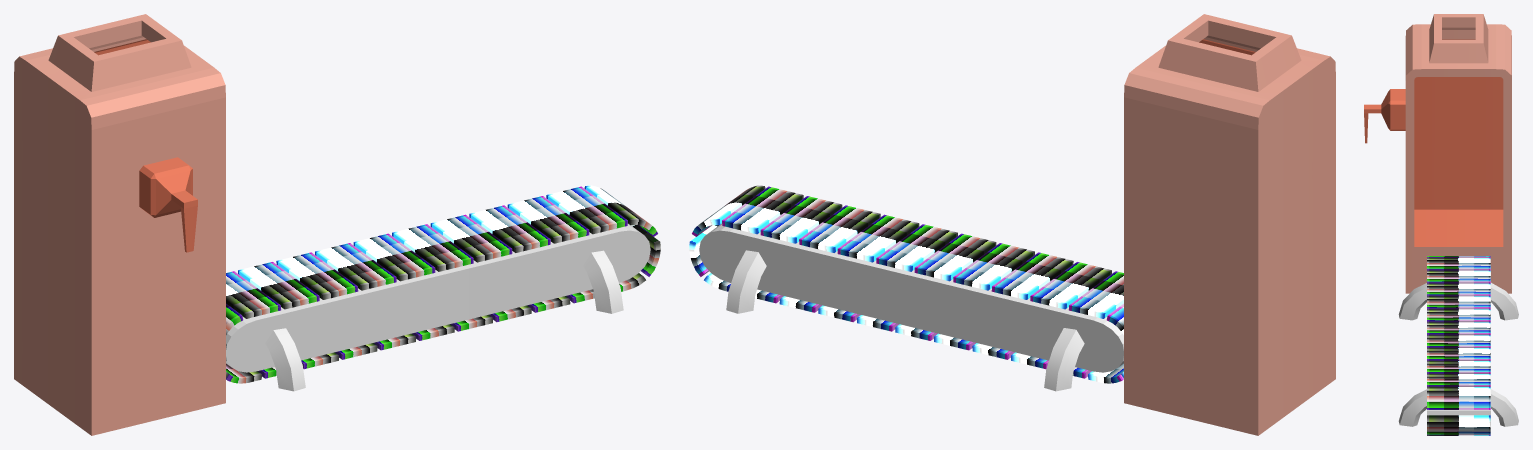
File: CheeseMachine.fbx
The picture shows the model from 3 angles, left to right: view 1: azimuth 30°, elevation 25°; view 2: azimuth 150°, elevation 25°; view 3: azimuth 270°, elevation 25°; orthographic projection. The views are drawn at different scales.
Visible parts, largest first — view 1: Oven, Plane.001, Base, Hand, Leg1, Leg2, Hand2; view 2: Oven, Plane.001, Base, Leg2, Leg1; view 3: Oven, Plane.001, Leg1, Leg2, Hand, Base, Hand2.
Boxes of the visible parts, box(x1,y1,x2,y2) form: Oven: box(14, 14, 225, 435); Plane.001: box(226, 185, 660, 383); Base: box(226, 223, 650, 372); Hand: box(139, 157, 192, 217); Leg1: box(265, 328, 305, 391); Leg2: box(583, 250, 623, 313); Hand2: box(171, 190, 197, 252); Oven: box(1124, 14, 1335, 435); Plane.001: box(689, 185, 1123, 383); Base: box(699, 223, 1123, 372); Leg2: box(726, 250, 766, 313); Leg1: box(1044, 328, 1084, 391); Oven: box(1405, 14, 1511, 293); Plane.001: box(1427, 256, 1490, 435); Leg1: box(1398, 282, 1518, 320); Leg2: box(1398, 389, 1518, 426); Hand: box(1381, 89, 1405, 130); Base: box(1427, 265, 1490, 426); Hand2: box(1364, 104, 1381, 143).
Size of the model in its own units: 2.63 by 1.52 by 0.8796.
Materials: 1 (1 with a texture image).
